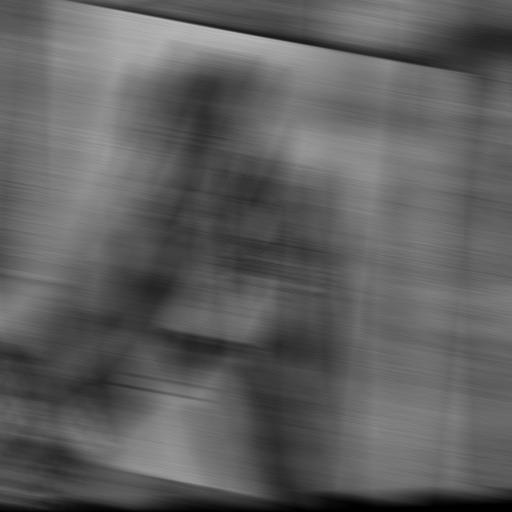bottom_left: (23, 447, 49, 457)
eiffel-tower: (103, 83, 387, 441)
top_left: (58, 0, 86, 10)
top_right: (422, 64, 448, 73)
